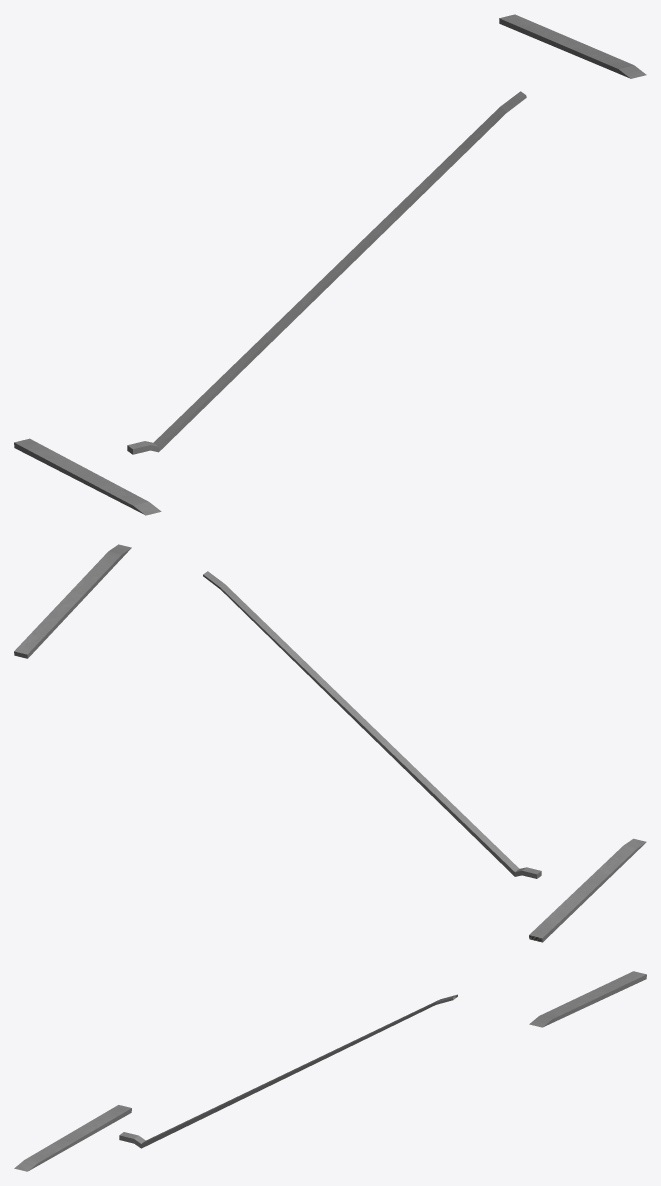
Rendered from Podstavkilestnici.glb.
3 views of the same model, one above another, from view 1: azimuth 30°, elevation 25°; view 2: azimuth 150°, elevation 25°; view 3: azimuth 330°, elevation 25° (orthographic). The views are drawn at different scales.
Parts seen in each view (by area): view 1: Cube; view 2: Cube; view 3: Cube.
Boxes of the visible parts, left/top/right/bottom form: Cube: left=14, top=14, right=646, bottom=515; Cube: left=14, top=544, right=646, bottom=942; Cube: left=14, top=971, right=646, bottom=1171.
Size of the model in its own units: 47.19 by 22.68 by 27.25.
1 material, 1 textured.
